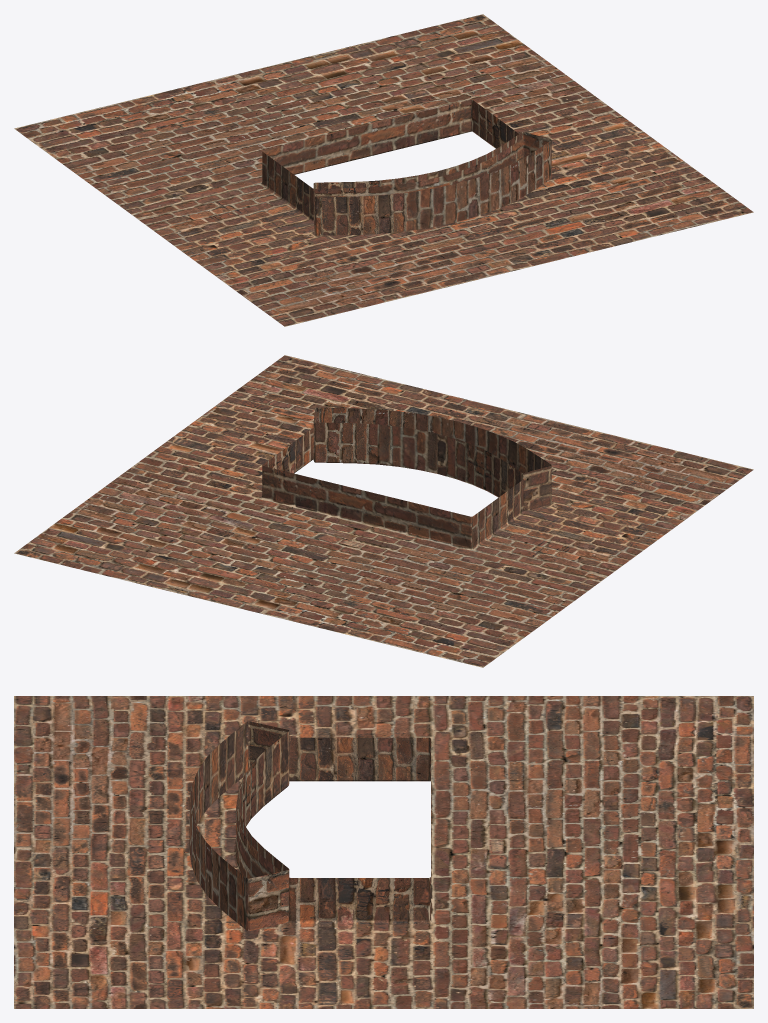
Rendered from wall_window_centered_medium_04.gltf.
The picture shows the model from 3 angles, top to bottom: view 1: azimuth 30°, elevation 25°; view 2: azimuth 150°, elevation 25°; view 3: azimuth 270°, elevation 25°; orthographic projection. The views are drawn at different scales.
Visible parts, largest first — view 1: wall_window_centered_medium_04; view 2: wall_window_centered_medium_04; view 3: wall_window_centered_medium_04.
Part boxes in pixels (x1,y1,x2,y2): wall_window_centered_medium_04: [14, 14, 753, 326]; wall_window_centered_medium_04: [14, 355, 753, 667]; wall_window_centered_medium_04: [14, 696, 753, 1008].
Size of the model in its own units: 3 by 0.25 by 3.
1 material, 1 textured.
